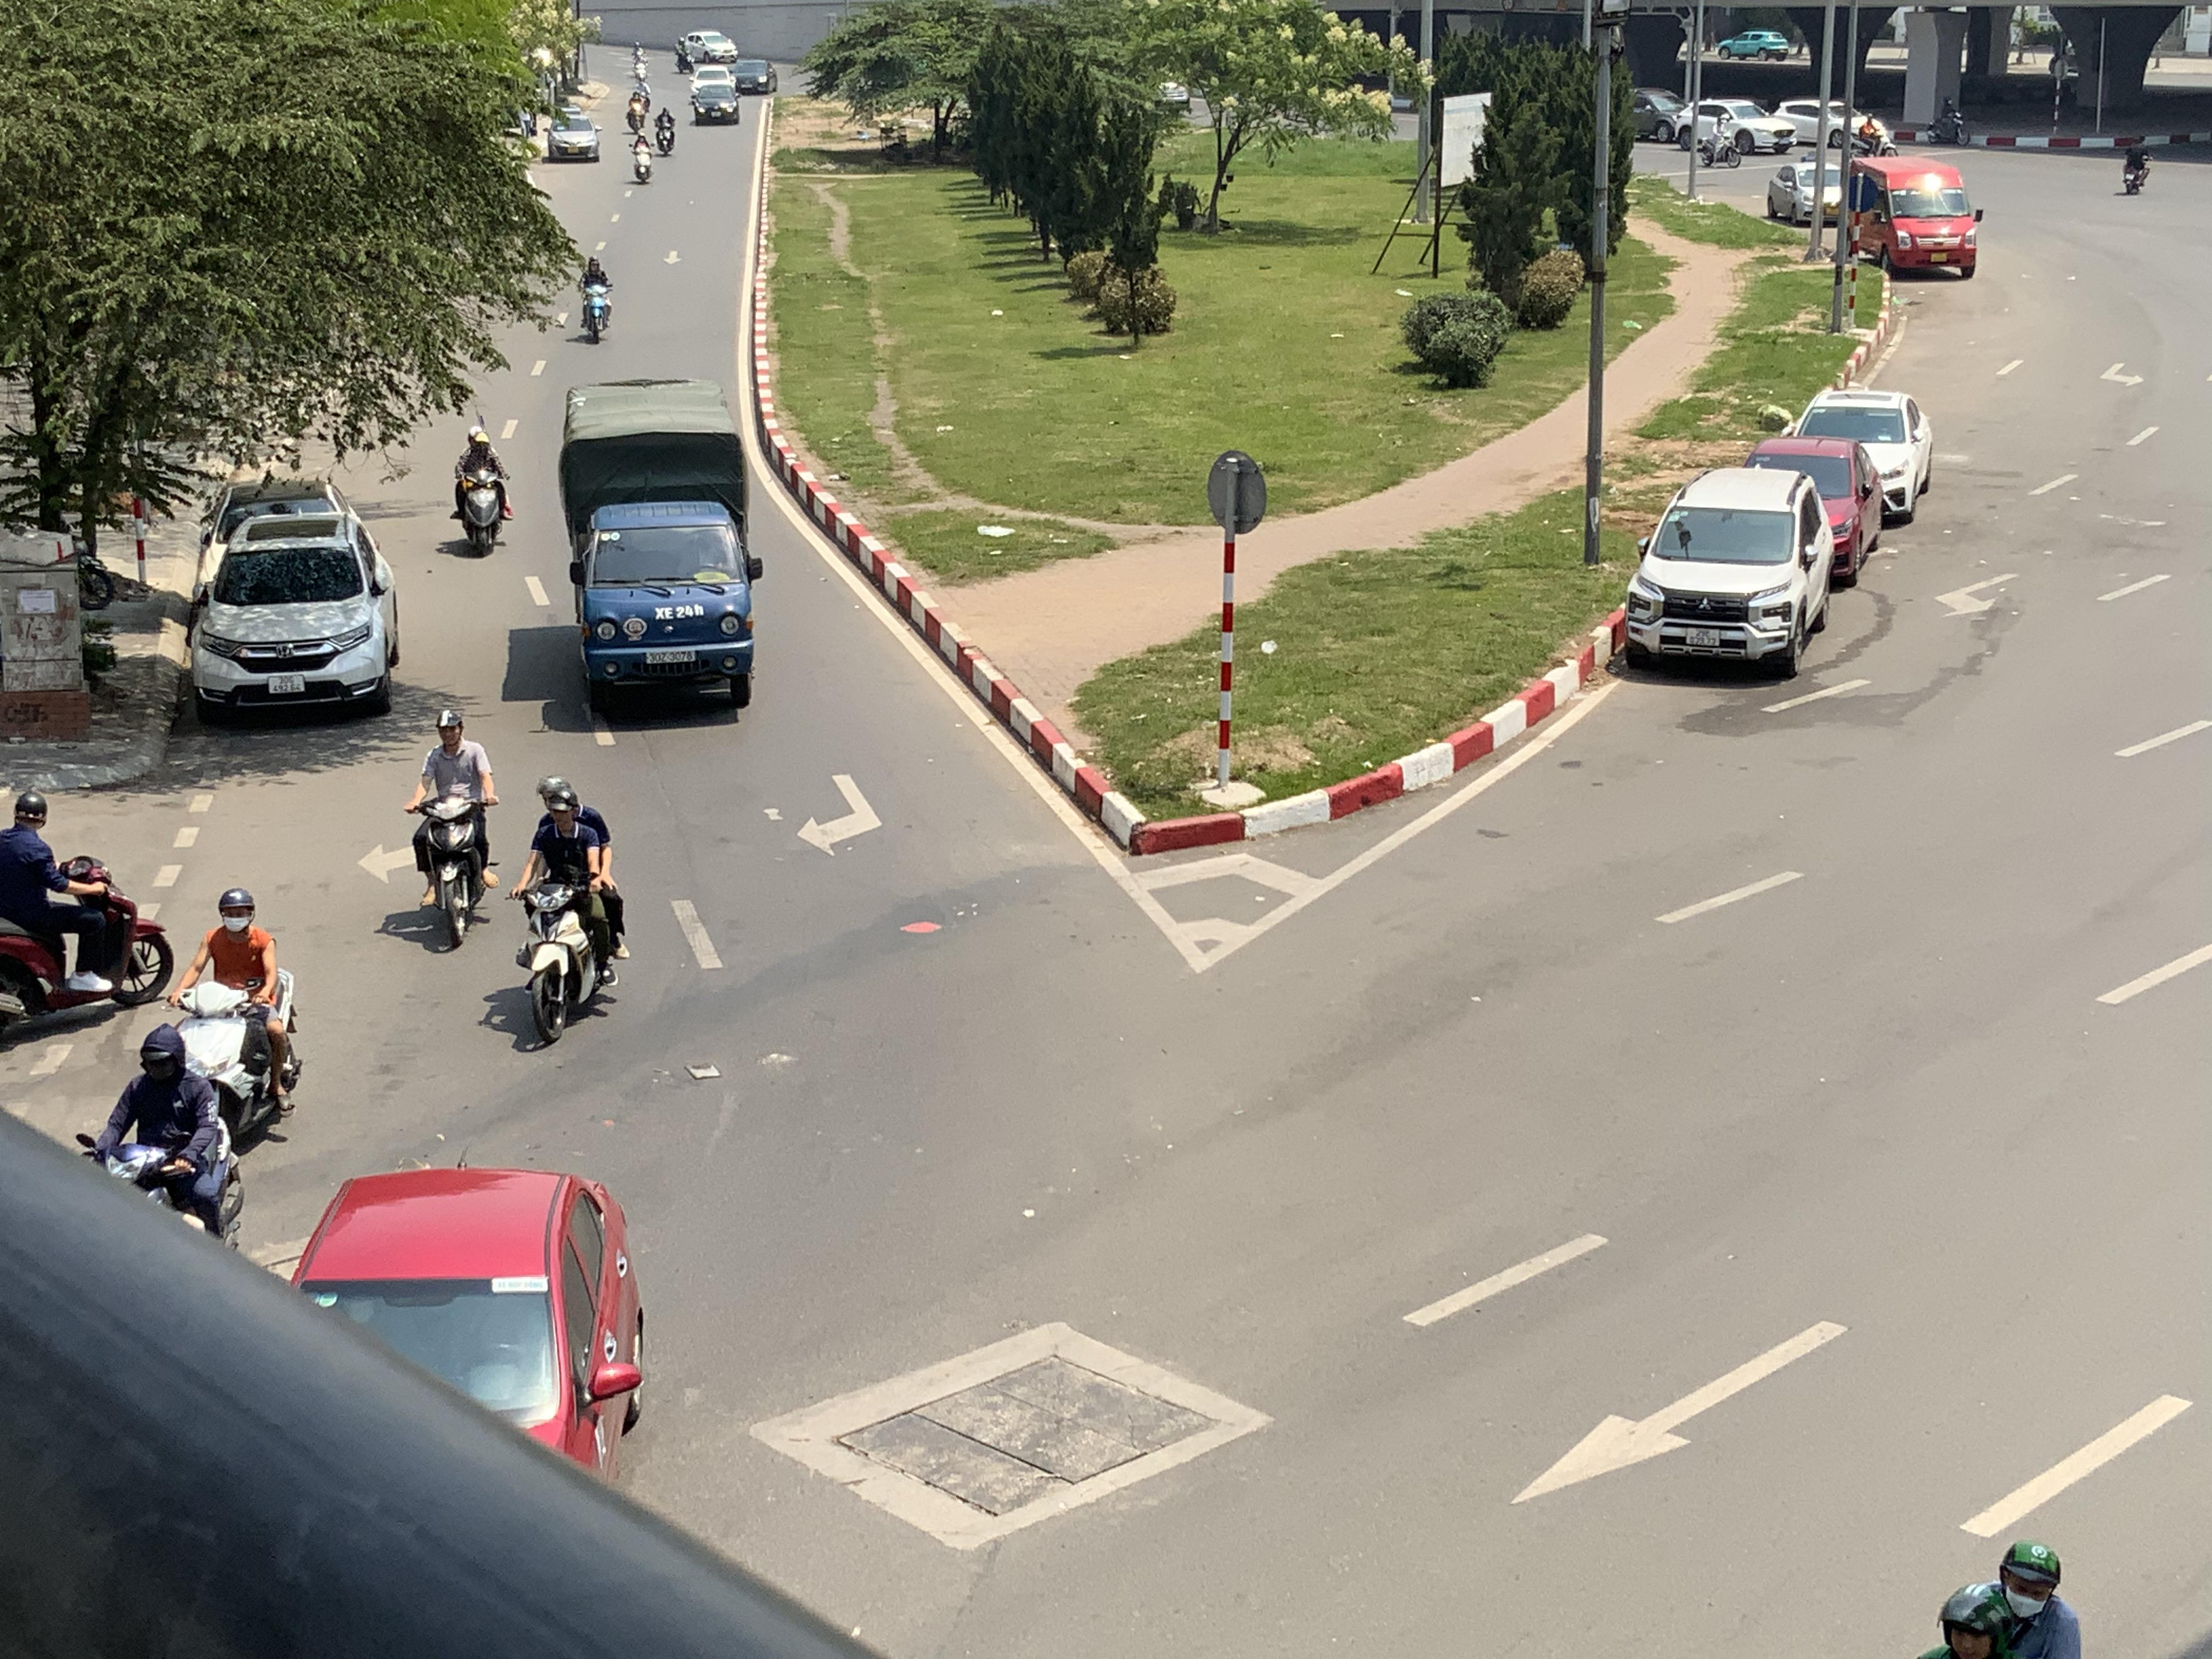BSD: (644, 648, 693, 664)
BSV: (268, 673, 305, 694), (1686, 627, 1721, 647)
car: (284, 1166, 648, 1481), (186, 490, 401, 721), (1618, 467, 1836, 680), (1743, 434, 1883, 589), (1789, 389, 1933, 526), (1844, 159, 1982, 281), (1681, 99, 1796, 159), (1766, 160, 1846, 227), (543, 112, 601, 162), (690, 75, 740, 124), (730, 56, 773, 94)
motorbike: (0, 791, 176, 1054), (82, 1023, 246, 1243), (172, 887, 301, 1154), (512, 775, 625, 1051), (408, 708, 498, 951), (451, 425, 512, 558), (577, 251, 613, 345), (2120, 129, 2151, 195), (629, 124, 653, 186)
truck: (556, 375, 763, 716)
